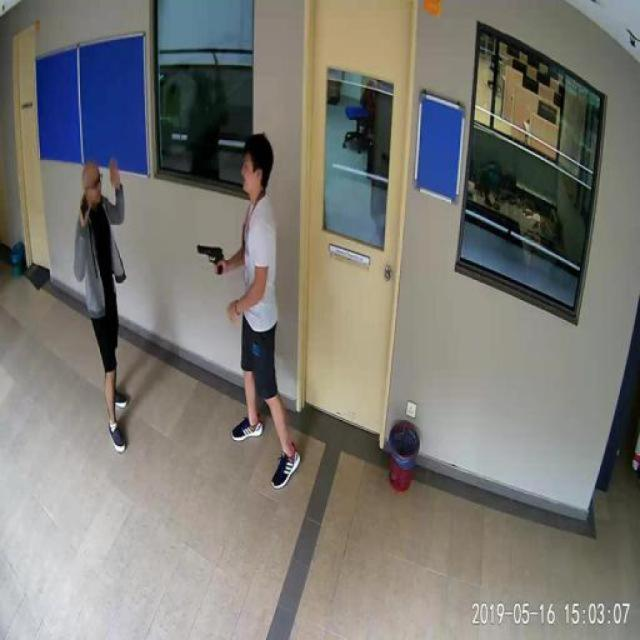pistol: (196, 240, 224, 275)
